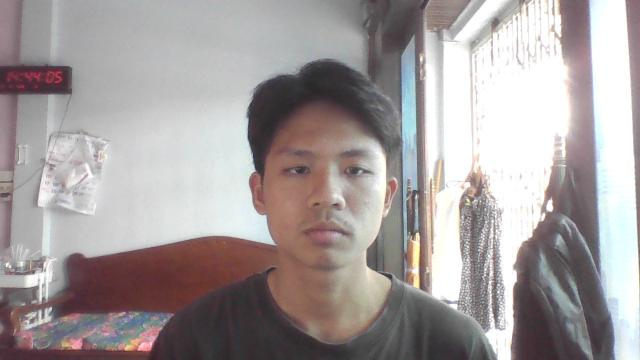fokus: (260, 92, 390, 265)
